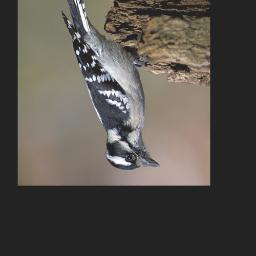Woodpecker: (61, 0, 161, 173)
